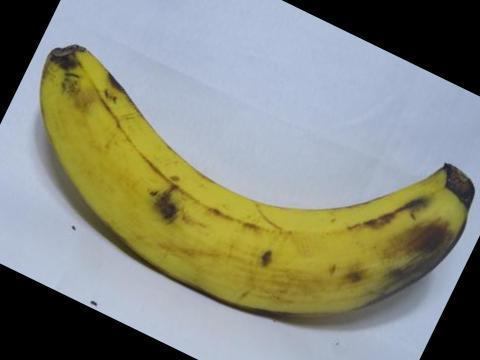ripe: (34, 37, 479, 339)
